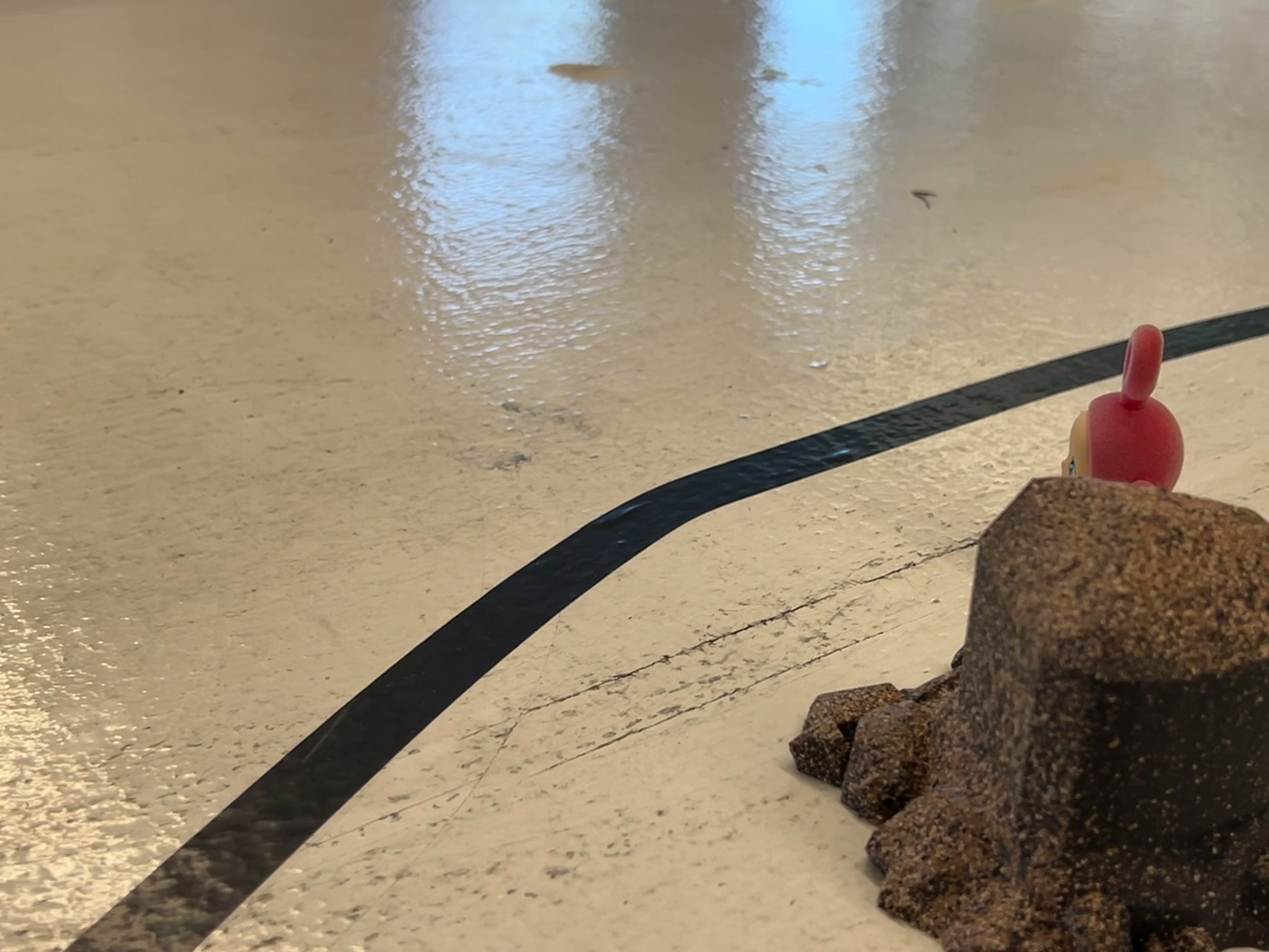teletubby: (1063, 325, 1183, 490)
